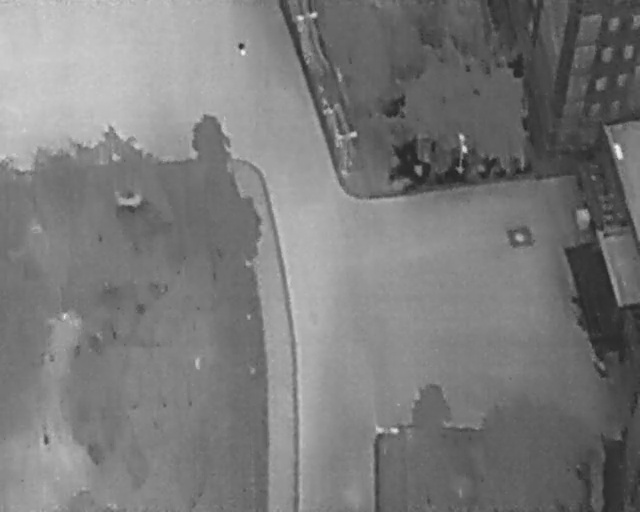Person: (238, 40, 247, 56)
